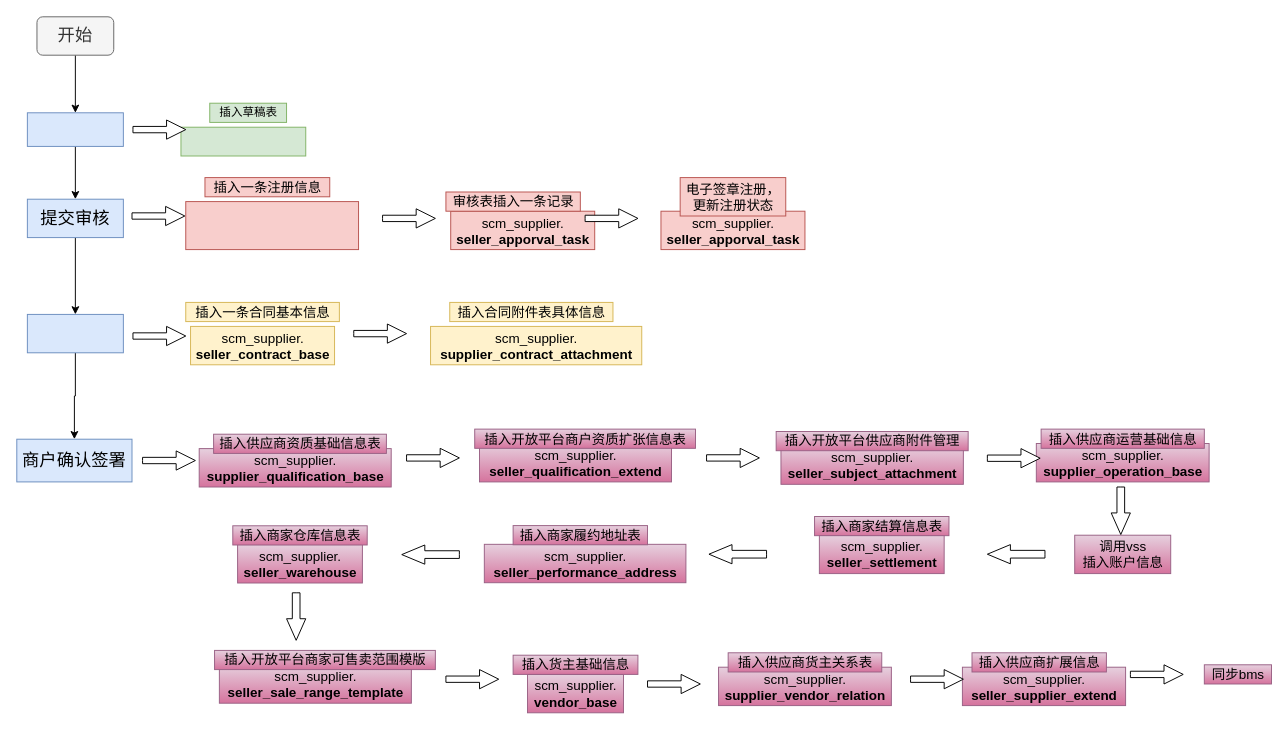
Some shapes in this 1288 by 730 pixel diagram are drawn without their labels. The shapes that lost their labels are listed below. From the top down, each one's box as (x1, y1, x2, y2) in pixels, then its label:
(26, 112, 123, 146): 存草稿表
(180, 126, 306, 156): scm_supplier. seller_proposal_task
(185, 201, 359, 250): scm_supplier. seller_signature_register （开放平台商户签章注册）
(26, 313, 123, 353): 审核通过
